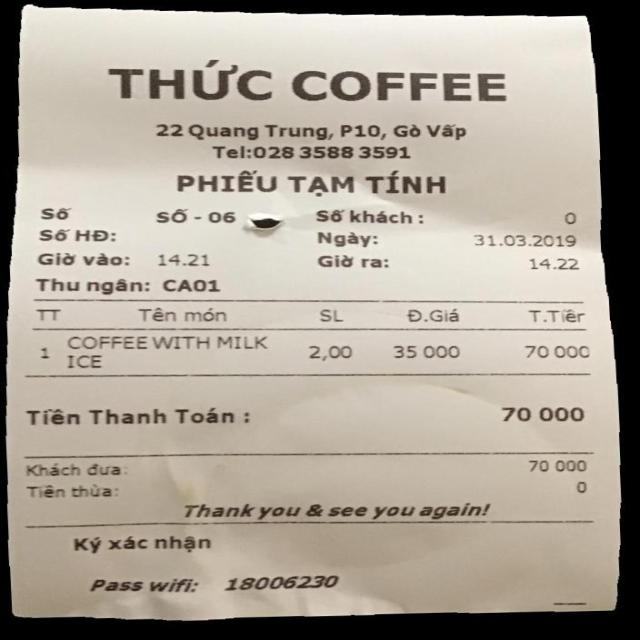Date: (468, 230, 579, 253)
Store_Name: (98, 64, 522, 110)
amount_number: (498, 401, 588, 430)
label_total: (18, 403, 240, 428)
